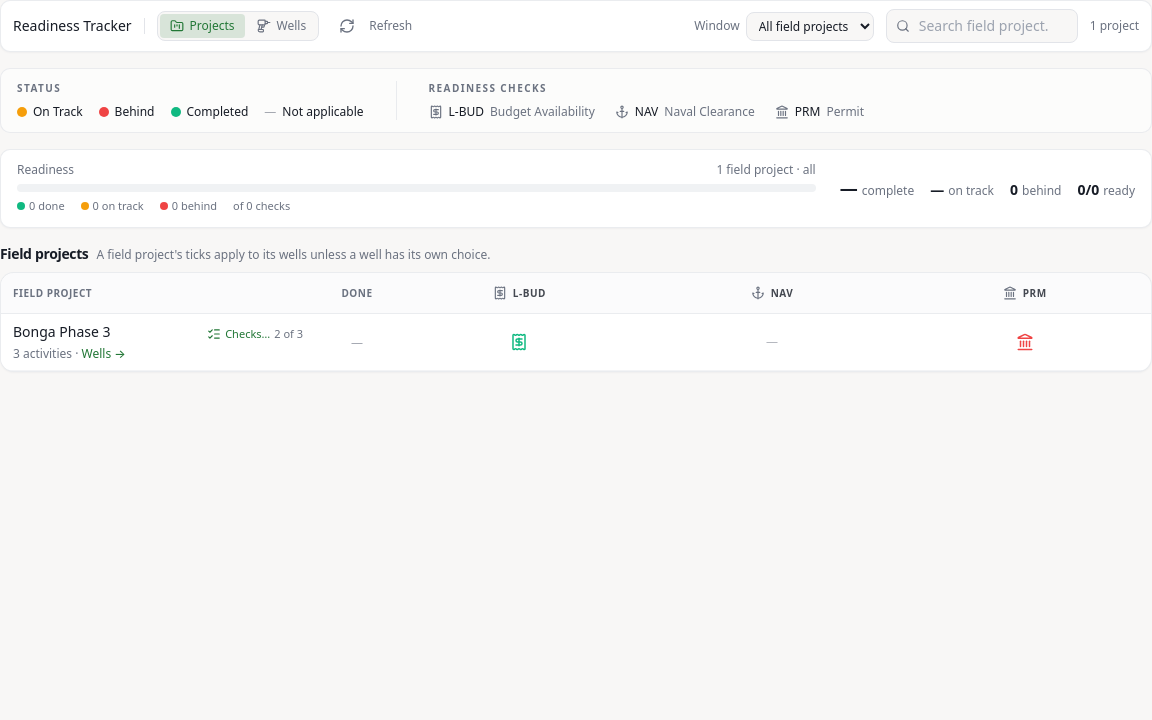
Test case: Logistics grid — checks that apply › a field project's picker: one request with the changed ticks; the rows redraw from the response
Click the button "Checks… 2 of 3". click: (255, 334)
box: [201, 322, 309, 346]
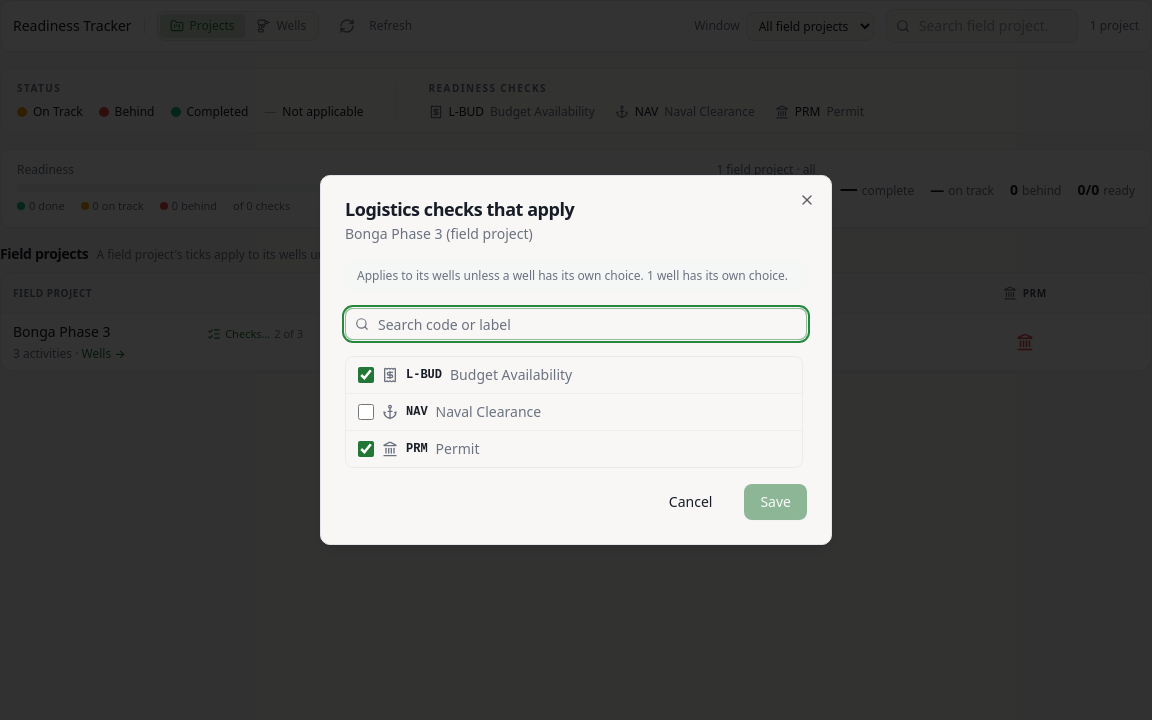
expect the dialog "Logistics checks that apply" shows "Applies to its wells unless a well has its own choice.": met, box [357, 267, 644, 284]
expect the dialog "Logistics checks that apply" shows "1 well has its own choice.": met, box [647, 267, 788, 284]
expect the checkbox named "NAV" is not checked: met, box [358, 404, 374, 420]
Click the checkbox named "L-BUD". click: (366, 375)
box: [358, 367, 374, 383]
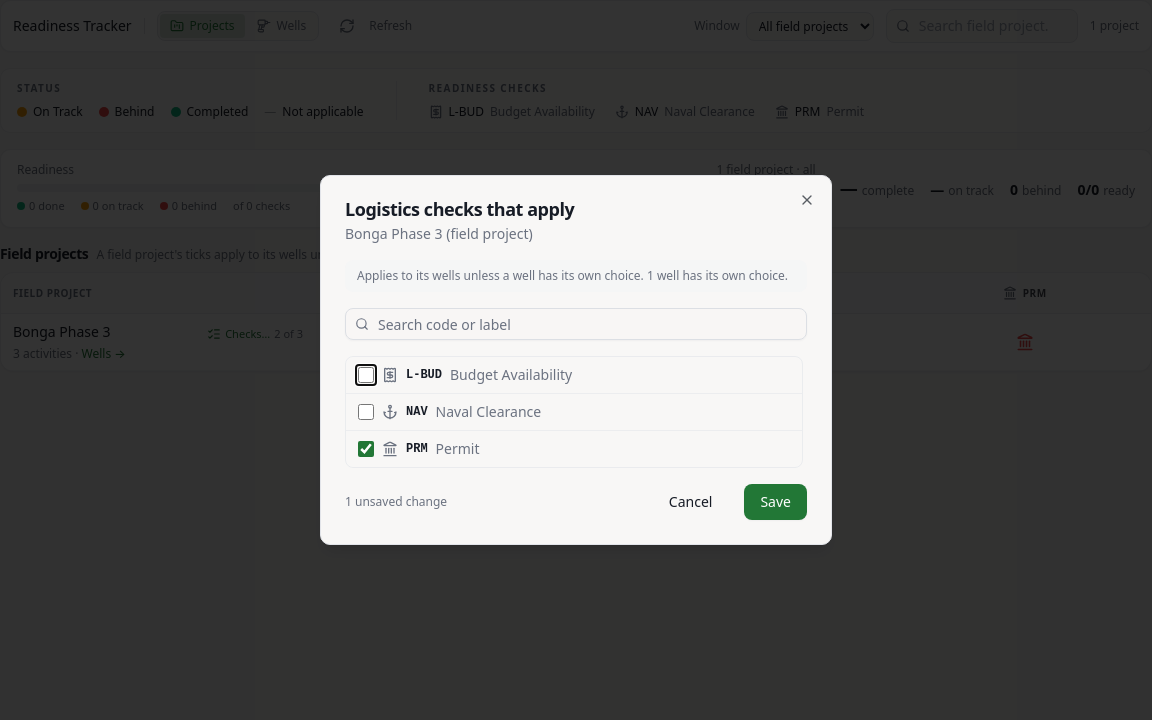
Click the checkbox named "NAV". click: (366, 412)
box: [358, 404, 374, 420]
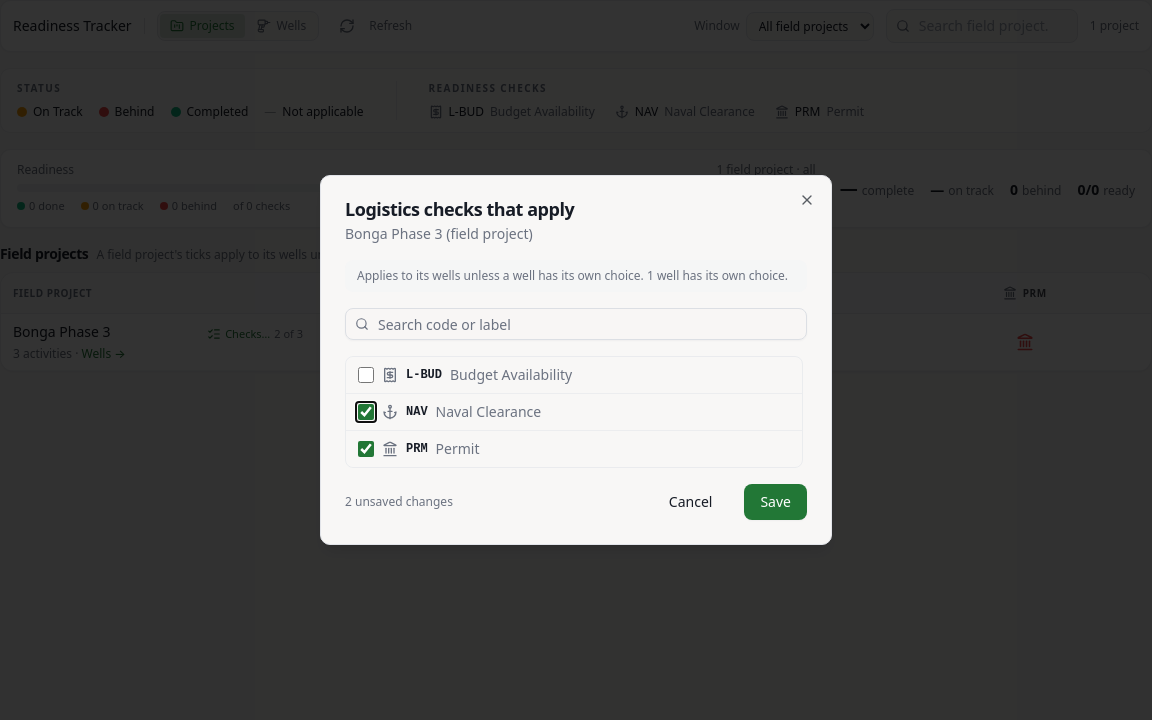
Click the button "Save". click: (776, 502)
box: [744, 484, 807, 520]
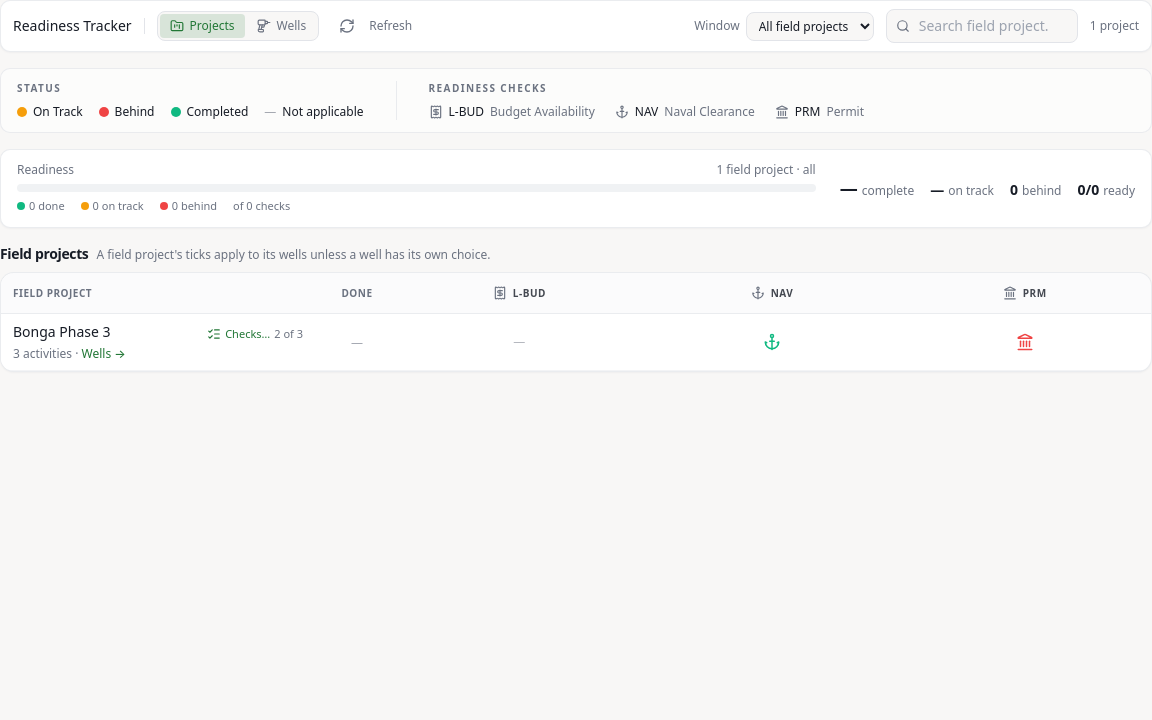
expect the dialog is gone: met
expect the button titled "Naval Clearance: Completed" is shown: met, box [758, 328, 786, 356]
